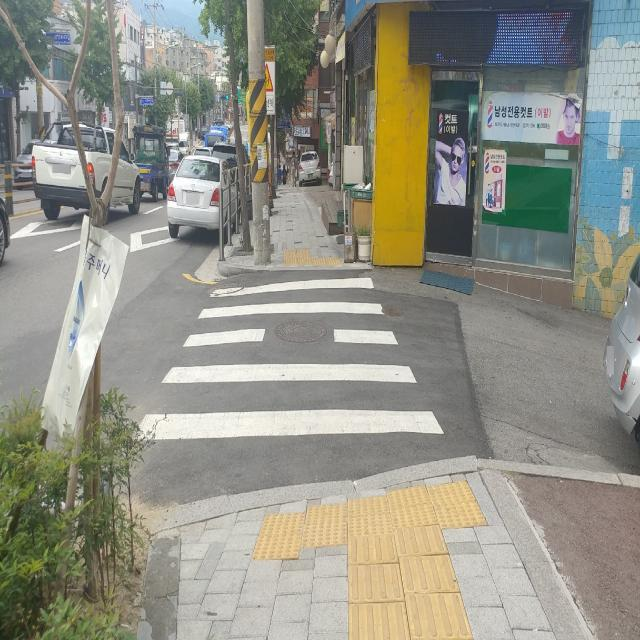횡단보도: (132, 276, 444, 441)
